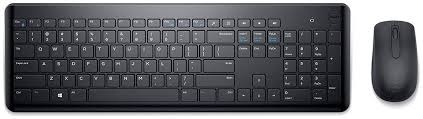keyboard: (7, 0, 354, 119)
mouse: (366, 16, 421, 109)
